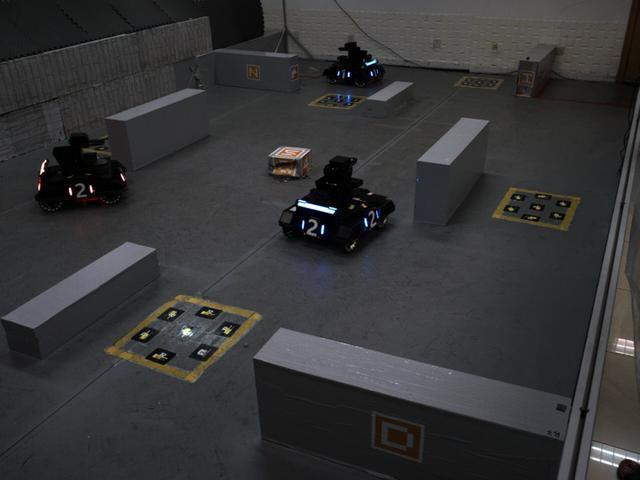armor: (296, 214, 327, 244), (358, 206, 383, 234), (63, 181, 96, 201), (334, 65, 354, 84)
